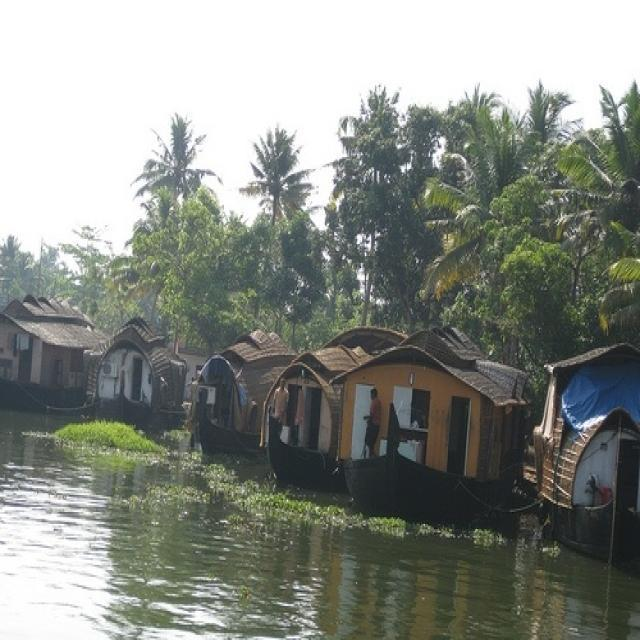Hyacinth: (209, 484, 404, 548), (61, 424, 159, 458), (134, 489, 206, 514)
boat: (348, 355, 496, 511), (262, 353, 346, 485), (184, 344, 265, 454)
